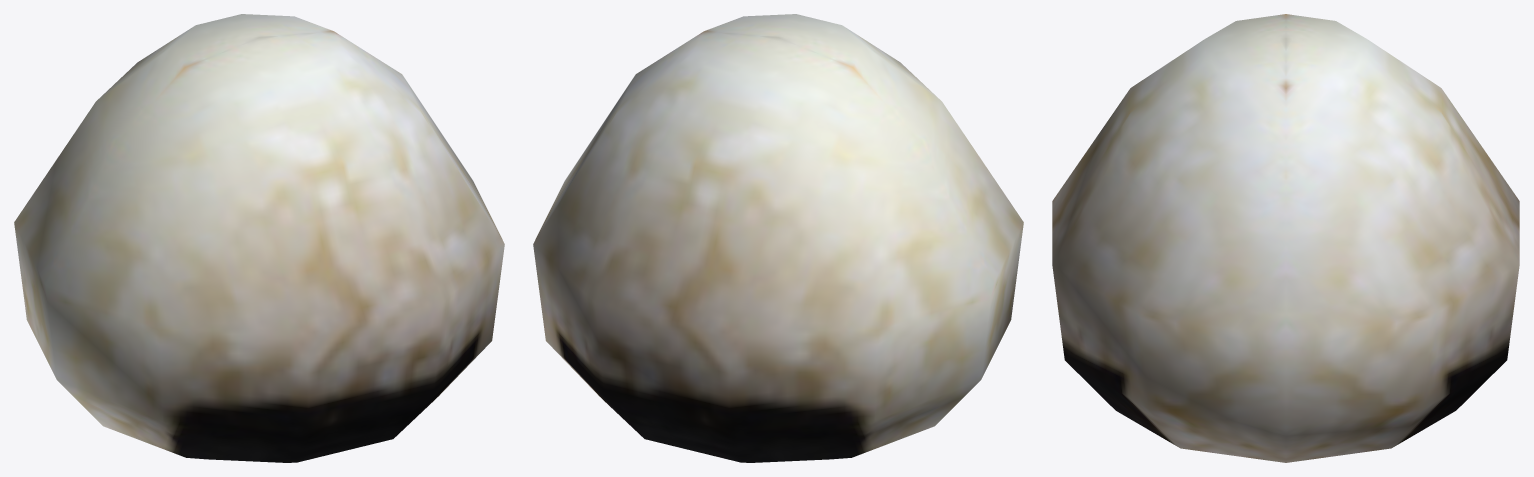
File: mifanmesh.FBX
3 renders of one model, left to right at view 1: azimuth 30°, elevation 25°; view 2: azimuth 150°, elevation 25°; view 3: azimuth 270°, elevation 25°, orthographic.
Parts seen in each view (by area): view 1: fantuan; view 2: fantuan; view 3: fantuan.
Part boxes in pixels (<box>): fantuan: <box>14,14,504,462</box>; fantuan: <box>533,14,1023,462</box>; fantuan: <box>1052,14,1519,462</box>.
Bounding box in the file's own units: 119 × 102 × 113.
1 material, 1 textured.
